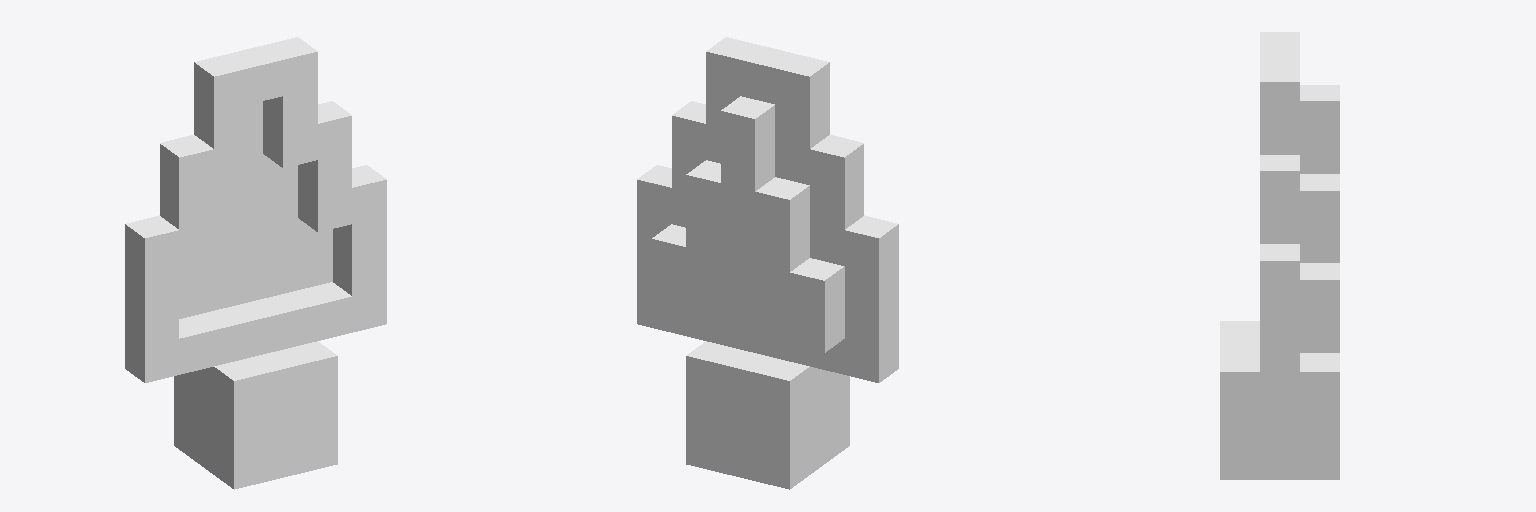
File: ShovelHead01.obj
The picture shows the model from 3 angles: view 1: azimuth 30°, elevation 25°; view 2: azimuth 150°, elevation 25°; view 3: azimuth 270°, elevation 25°; orthographic projection.
Visible parts, largest first — view 1: object 1; view 2: object 1; view 3: object 1.
Part boxes in pixels (left/top/right/bottom): object 1: left=125, top=37, right=386, bottom=489; object 1: left=637, top=37, right=898, bottom=489; object 1: left=1220, top=32, right=1339, bottom=479.
Bounding box in the file's own units: 0.7 × 1.1 × 0.3.